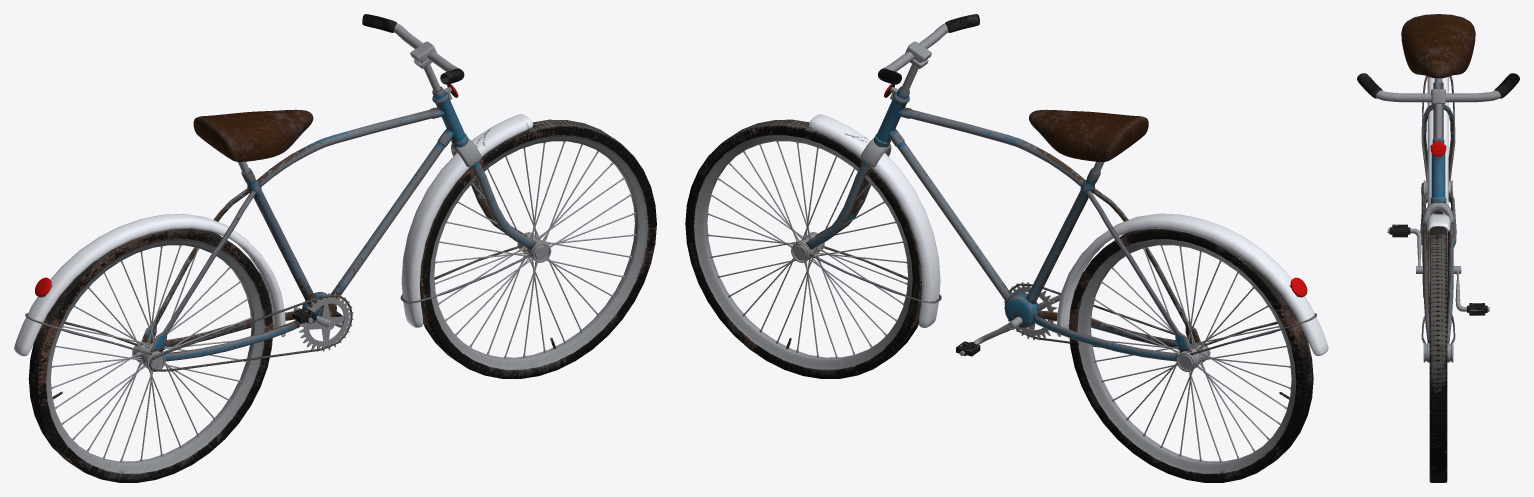
File: bycicle_ussr.glb
3 renders of one model, left to right at view 1: azimuth 30°, elevation 25°; view 2: azimuth 150°, elevation 25°; view 3: azimuth 270°, elevation 25°, orthographic. The views are drawn at different scales.
Parts seen in each view (by area): view 1: Circle.002; view 2: Circle.002; view 3: Circle.002.
Part boxes in pixels (left/top/right/bottom): Circle.002: left=14, top=14, right=656, bottom=482; Circle.002: left=685, top=14, right=1328, bottom=482; Circle.002: left=1357, top=14, right=1519, bottom=482.
Size of the model in its own units: 20.37 by 11.36 by 4.81.
Materials: 1 (1 with a texture image).
